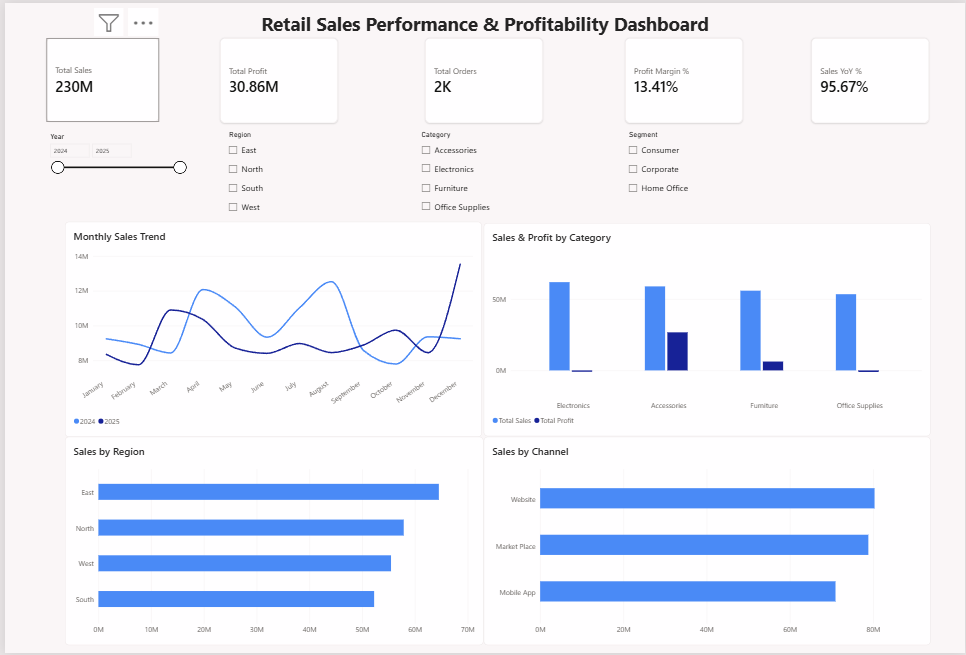

The dashboard page shown, as its layout file describes it:
{"tool":"powerbi","page":{"name":"Retail Sales Performance & Profitability Dashboard","canvas":[1920,1300],"ordinal":0},"visuals":[{"type":"cardVisual","fields":{"Data":["FactSales.Total Sales"]},"box":[82.6,69.6,226,168],"z":0},{"type":"cardVisual","fields":{"Data":["FactSales.Total Profit"]},"box":[430.4,69.6,236,170],"z":1000},{"type":"cardVisual","fields":{"Data":["FactSales.Total Orders"]},"box":[839.1,69.6,236,170],"z":2000},{"type":"cardVisual","fields":{"Data":["FactSales.Profit Margin %"]},"box":[1239.1,69.6,236,170],"z":3000},{"type":"cardVisual","fields":{"Data":["FactSales.Sales YoY %"]},"box":[1613,69.6,236,170],"z":4000},{"type":"lineChart","title":"Monthly Sales Trend","fields":{"Category":["DimDate.Month Name"],"Series":["DimDate.Year"],"Y":["FactSales.Total Sales"]},"box":[120,436.7,833.3,430],"z":5000},{"type":"clusteredColumnChart","title":"Sales & Profit by Category","fields":{"Category":["FactSales.Category"],"Y":["FactSales.Total Sales","FactSales.Total Profit"]},"box":[956.7,440,893.3,426.7],"z":6000},{"type":"clusteredBarChart","title":"Sales by Region","fields":{"Category":["FactSales.Region"],"Y":["FactSales.Total Sales"]},"box":[120,866.7,836.7,416.7],"z":7000},{"type":"clusteredBarChart","title":"Sales by Channel","fields":{"Category":["FactSales.Sales_Channel"],"Y":["FactSales.Total Sales"]},"box":[956.7,866.7,893.3,416.7],"z":8000},{"type":"slicer","fields":{"Values":["DimDate.Year"]},"box":[82.6,256.5,284,198],"z":9000},{"type":"slicer","fields":{"Values":["DimCustomer.Region"]},"box":[439.1,254.3,178.3,197.8],"z":10000},{"type":"slicer","fields":{"Values":["DimProduct.Category"]},"box":[826.1,254.3,258,170],"z":11000},{"type":"slicer","fields":{"Values":["DimCustomer.Segment"]},"box":[1239.1,254.3,258,170],"z":12000},{"type":"textbox","box":[0,15,1920,55],"z":13000}]}

Visuals, with their boxes in screenshot pixels (x1, y1, x2, y2), scaled from the page's 1920x1300 canvas onto the 966x655 screenshot:
cardVisual - FactSales.Total Sales: [left=42, top=35, right=155, bottom=120]
cardVisual - FactSales.Total Profit: [left=217, top=35, right=335, bottom=121]
cardVisual - FactSales.Total Orders: [left=422, top=35, right=541, bottom=121]
cardVisual - FactSales.Profit Margin %: [left=623, top=35, right=742, bottom=121]
cardVisual - FactSales.Sales YoY %: [left=812, top=35, right=930, bottom=121]
"Monthly Sales Trend" lineChart: [left=60, top=220, right=480, bottom=437]
"Sales & Profit by Category" clusteredColumnChart: [left=481, top=222, right=931, bottom=437]
"Sales by Region" clusteredBarChart: [left=60, top=437, right=481, bottom=647]
"Sales by Channel" clusteredBarChart: [left=481, top=437, right=931, bottom=647]
slicer - DimDate.Year: [left=42, top=129, right=184, bottom=229]
slicer - DimCustomer.Region: [left=221, top=128, right=311, bottom=228]
slicer - DimProduct.Category: [left=416, top=128, right=545, bottom=214]
slicer - DimCustomer.Segment: [left=623, top=128, right=753, bottom=214]
textbox: [left=0, top=8, right=965, bottom=35]
